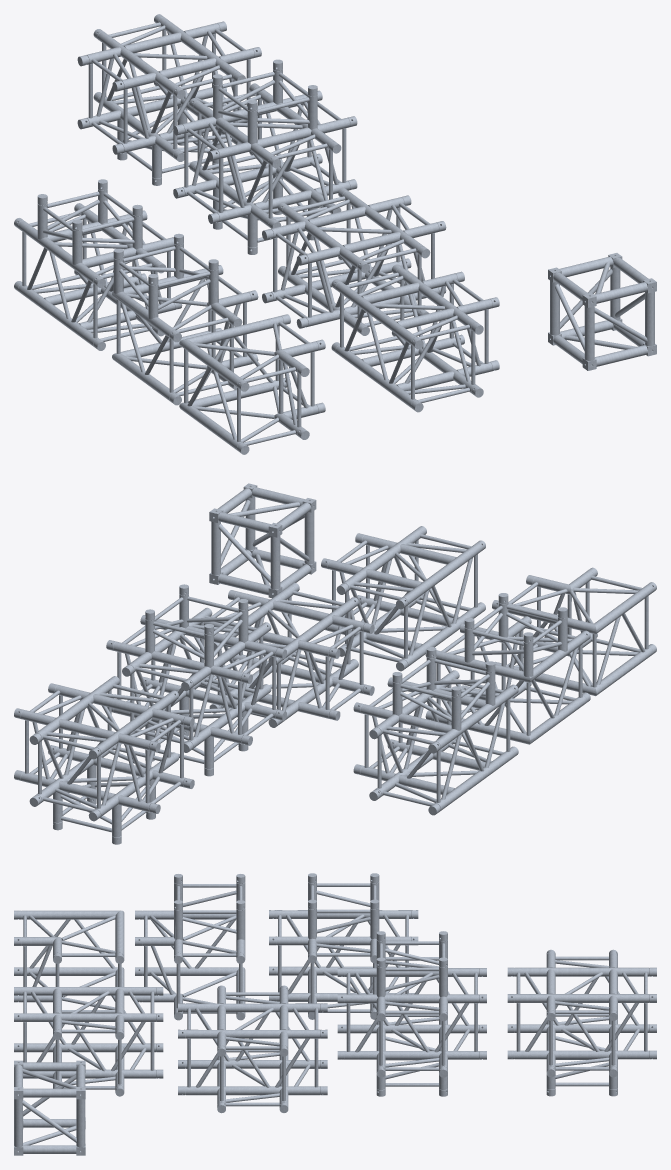
The model's file is Prolyte_H40V_Corners-ee056aa6.glb.
3 views of the same model, one above another, from view 1: azimuth 30°, elevation 25°; view 2: azimuth 150°, elevation 25°; view 3: azimuth 270°, elevation 25° (orthographic). The views are drawn at different scales.
Bounding box in the file's own units: 2.43 × 0.8394 × 3.61.
1 material, 1 textured.
